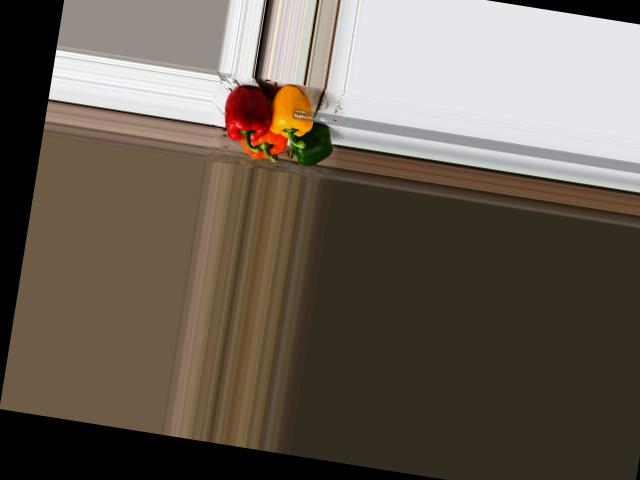bell_pepper: (239, 124, 290, 164)
